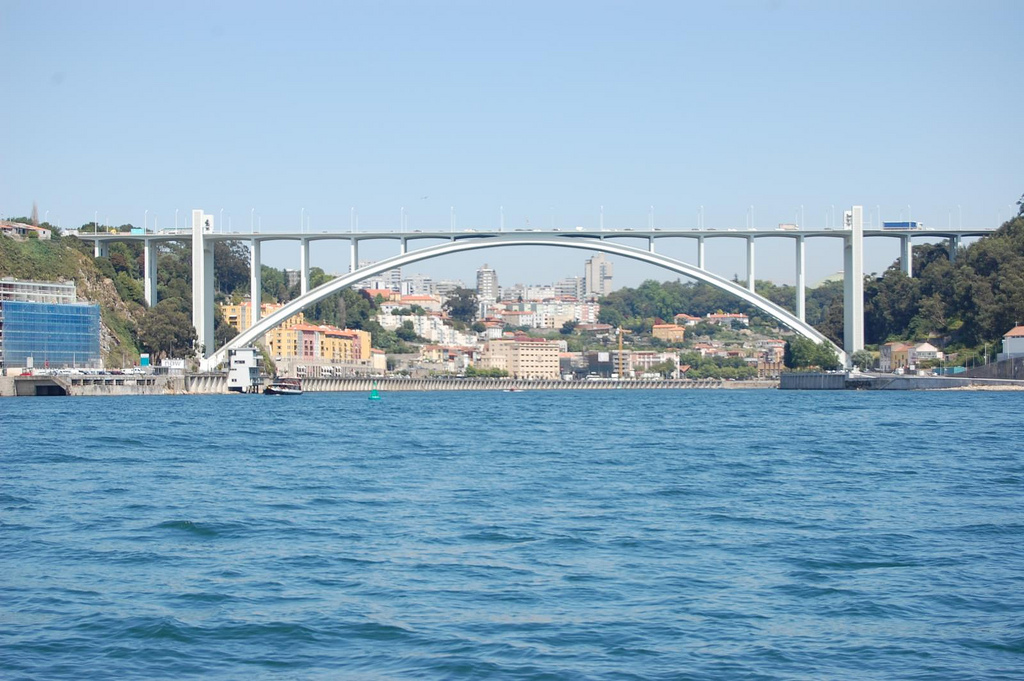arrabida: (80, 206, 1023, 372)
